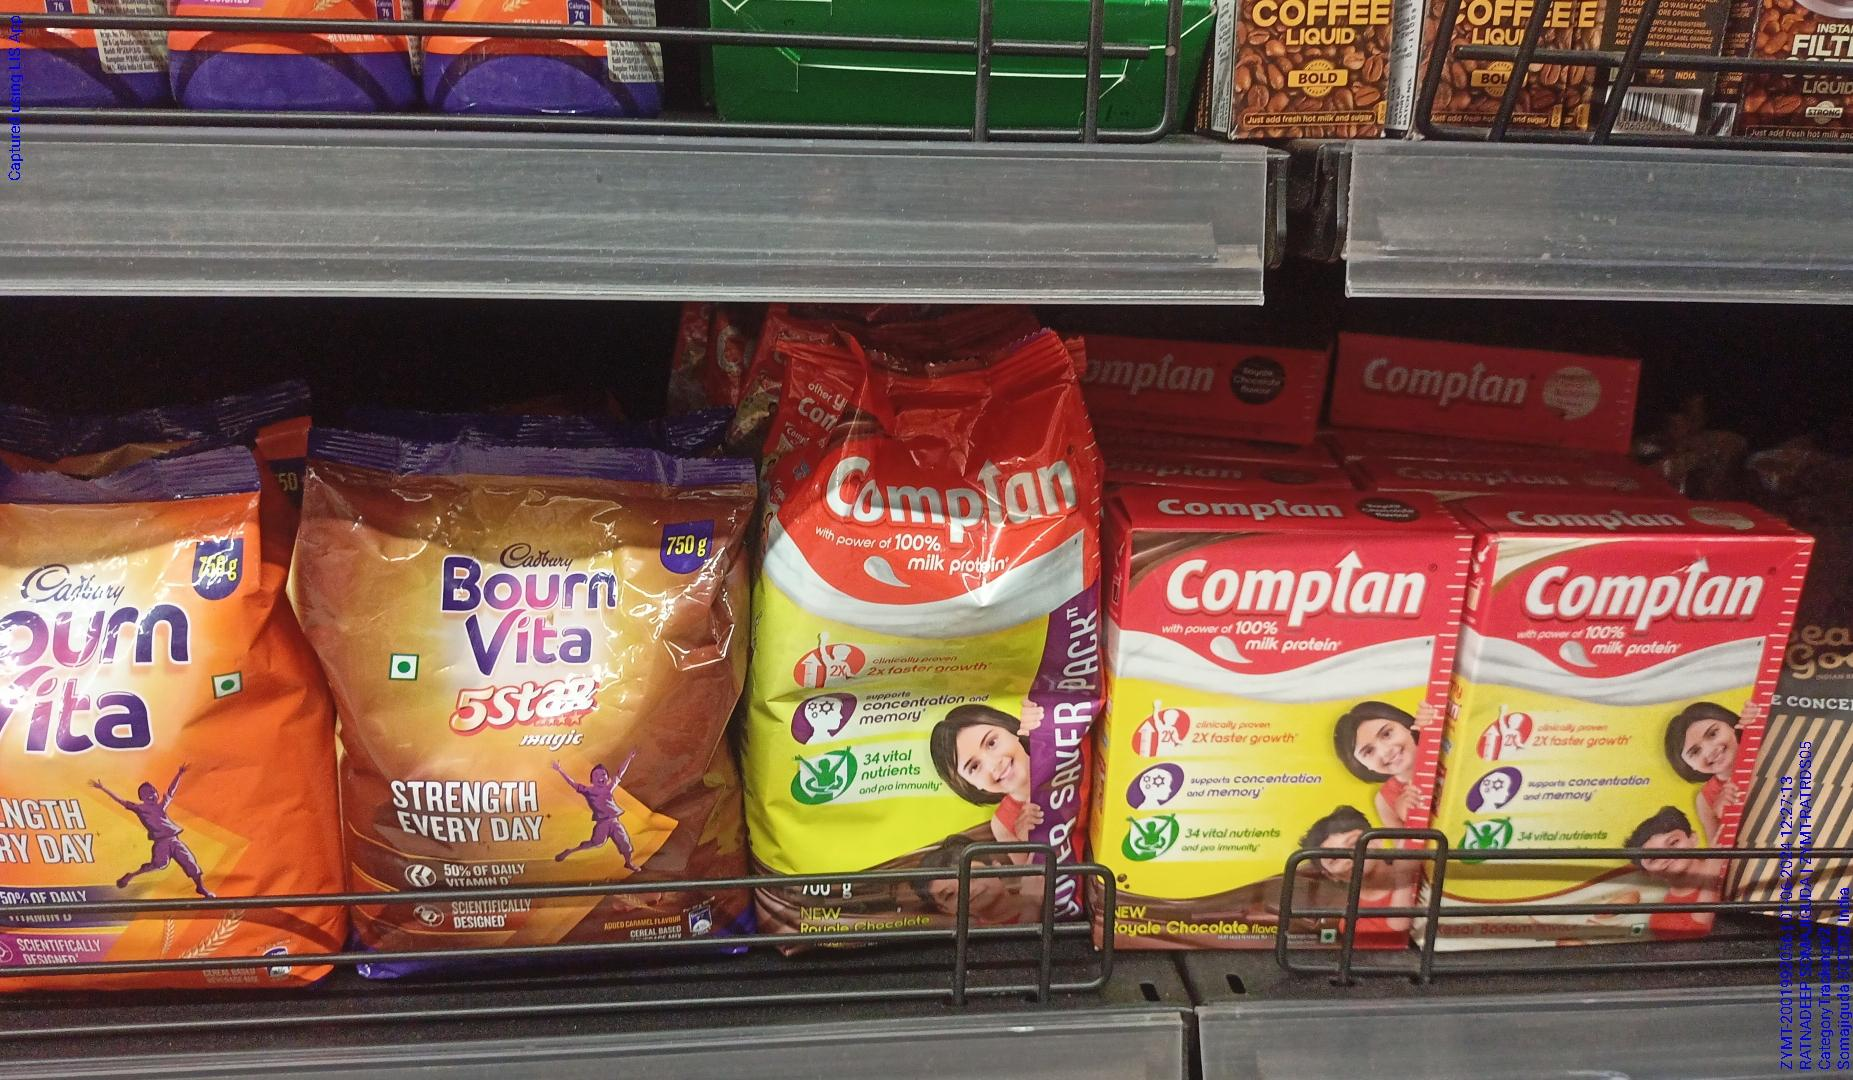BOURN_VITA_750_G_POUCH: (0, 462, 302, 984)
BOURN_VITA_FIVE_STAR_MAGIC_750_G_POUCH: (302, 460, 743, 945)
COMPLAN_CHOCOLATE_500_GMS_PACK: (1109, 528, 1444, 972)
COMPLAN_KESAR_BADAM_500_GMS_PACK: (1452, 519, 1773, 967)
COMPLAN_RC_POUCH_700_GMS_12: (754, 339, 1108, 926)
